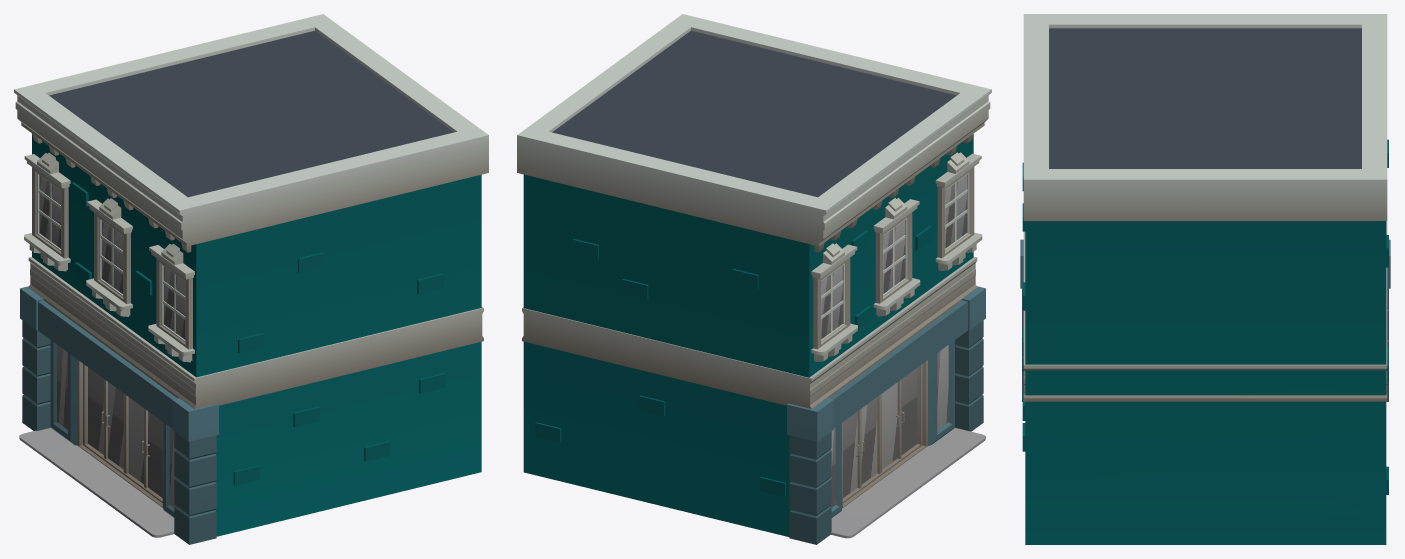
File: Building_21_4_I.fbx
3 views of the same model, side by side, from view 1: azimuth 30°, elevation 25°; view 2: azimuth 150°, elevation 25°; view 3: azimuth 270°, elevation 25° (orthographic). The views are drawn at different scales.
Parts seen in each view (by area): view 1: Building_21_4_I; view 2: Building_21_4_I; view 3: Building_21_4_I.
Boxes of the visible parts, x1,y1,x2,y2 form: Building_21_4_I: [14, 14, 488, 544]; Building_21_4_I: [517, 14, 991, 544]; Building_21_4_I: [1020, 14, 1390, 544].
Size of the model in its own units: 779 by 782 by 713.
